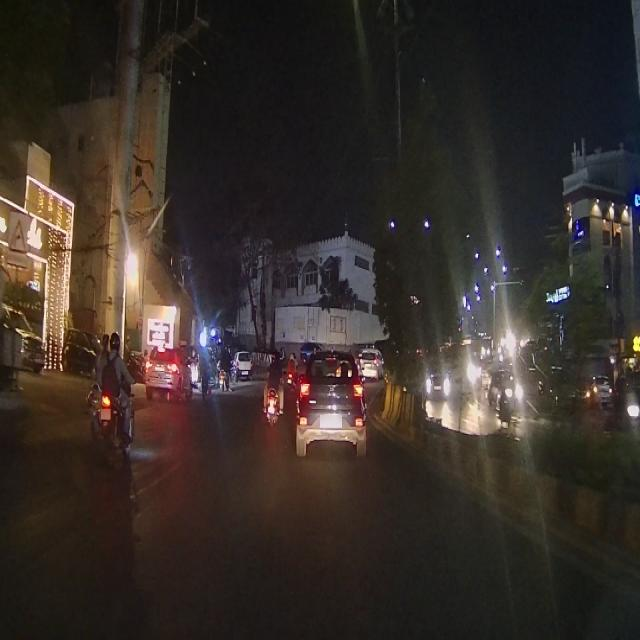motorcycle ahead at: (299, 342, 368, 472)
